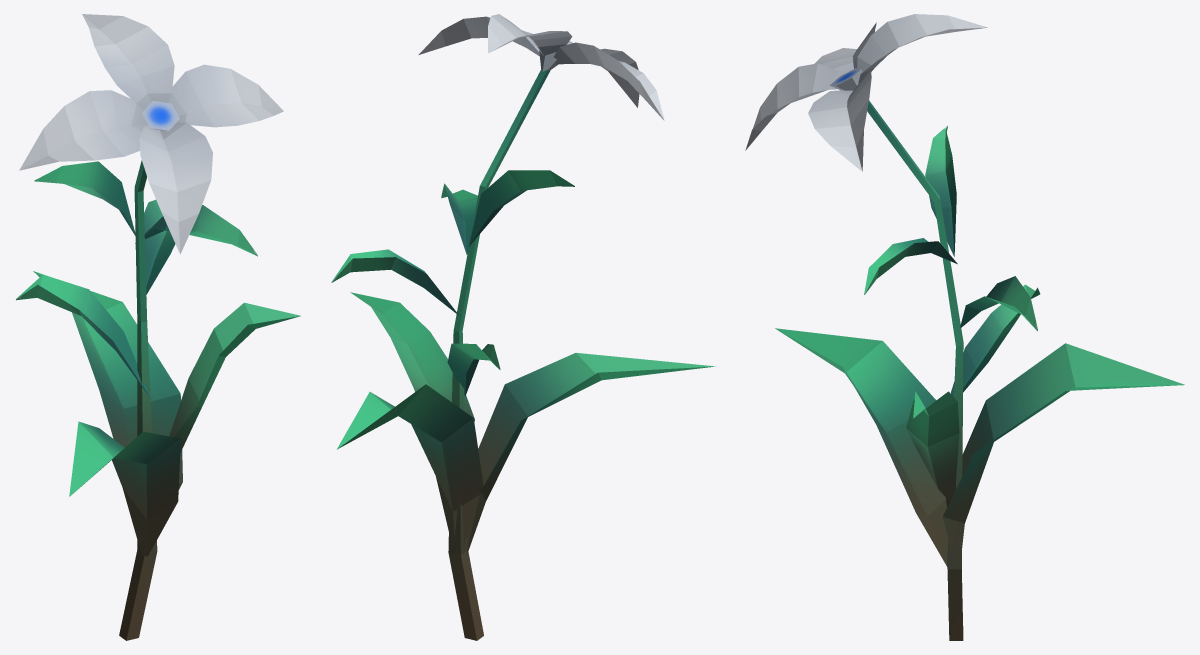
The model's file is hiling flower.fbx.
The picture shows the model from 3 angles, left to right: view 1: azimuth 30°, elevation 25°; view 2: azimuth 150°, elevation 25°; view 3: azimuth 270°, elevation 25°; orthographic projection. The views are drawn at different scales.
Visible parts, largest first — view 1: hiling flower; view 2: hiling flower; view 3: hiling flower.
Part boxes in pixels (box(x1,y1,x2,y2)): hiling flower: box(16, 14, 300, 640); hiling flower: box(331, 14, 715, 640); hiling flower: box(745, 14, 1184, 640).
Size of the model in its own units: 48.52 by 95.36 by 63.06.
